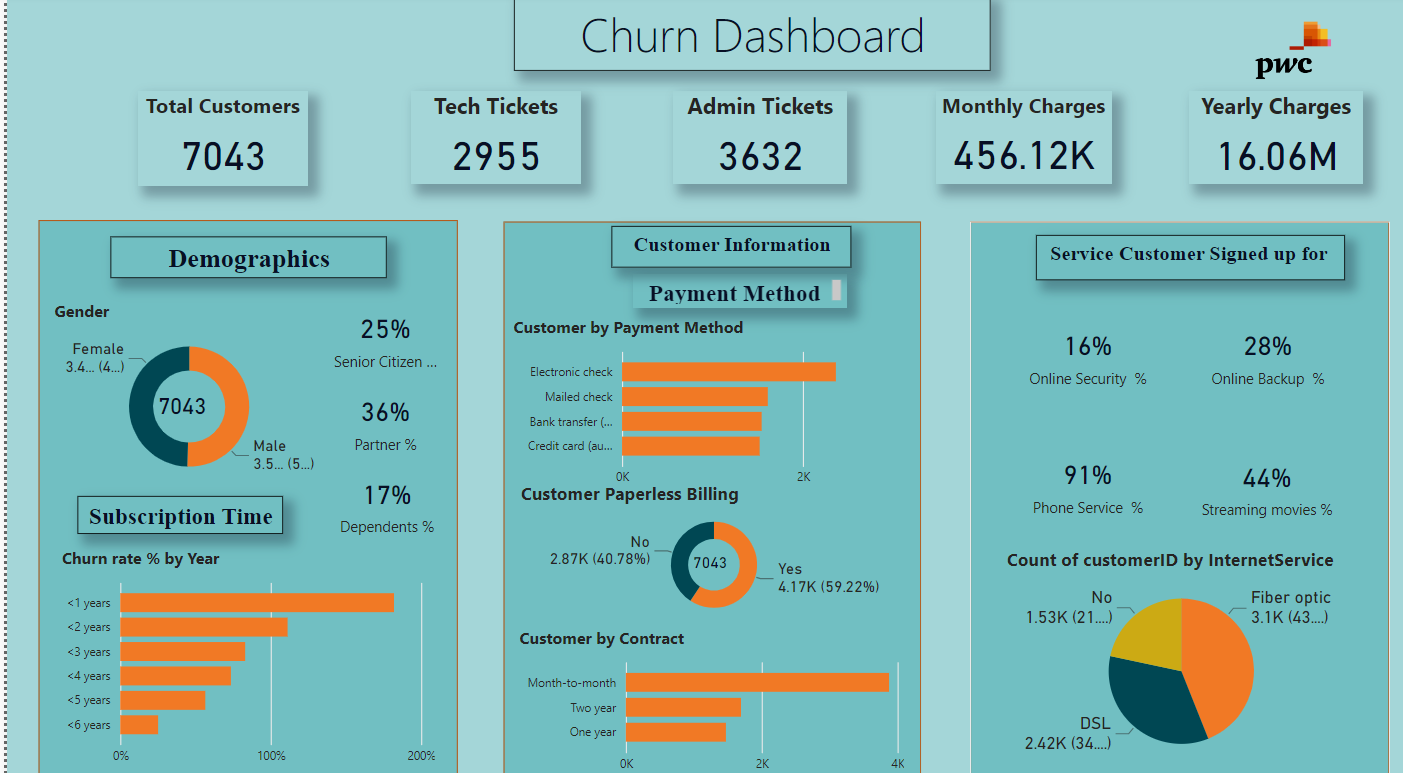

What the dashboard file says about the page in this screenshot:
{"tool":"powerbi","page":{"name":"Churn","canvas":[1280,720],"ordinal":1},"visuals":[{"type":"textbox","box":[464.2,0,435.8,69.5],"z":0},{"type":"shape","box":[28.4,205.3,383.7,514.7],"z":1000},{"type":"shape","box":[454.7,206.8,382.1,513.2],"z":2000},{"type":"shape","box":[881.1,206.8,383.7,513.2],"z":3000},{"type":"textbox","box":[94.7,221.1,252.6,37.9],"z":4000},{"type":"textbox","box":[552.6,211.6,219.5,37.9],"z":5000},{"type":"textbox","box":[941.1,219.5,282.6,41.1],"z":6000},{"type":"card","title":"Total Customers","fields":{"Values":["CountNonNull(Customer_Churn_Dataset.customerID)"]},"box":[120,88.4,156.3,86.8],"z":7000},{"type":"card","title":"Tech Tickets","fields":{"Values":["Customer_Churn_Dataset.Total Tech Tickets"]},"box":[369.5,88.4,156.3,85.3],"z":8000},{"type":"card","title":"Admin Tickets","fields":{"Values":["Sum(Customer_Churn_Dataset.numAdminTickets)"]},"box":[609.5,88.4,159.5,85.3],"z":9000},{"type":"card","title":"Monthly Charges","fields":{"Values":["Sum(Customer_Churn_Dataset.MonthlyCharges)"]},"box":[849.5,88.4,161.1,85.3],"z":10000},{"type":"card","title":"Yearly Charges","fields":{"Values":["Sum(Customer_Churn_Dataset.TotalCharges)"]},"box":[1081.6,88.4,159.5,85.3],"z":11000},{"type":"donutChart","title":"Gender","fields":{"Category":["Customer_Churn_Dataset.gender"],"Y":["CountNonNull(Customer_Churn_Dataset.gender)"]},"box":[37.9,277.9,255.8,175.3],"z":12000},{"type":"clusteredBarChart","title":" Churn rate % by Year","fields":{"Y":["Customer_Churn_Dataset.Churn rate %"],"Category":["Customer_Churn_Dataset.Substitute"]},"box":[45.8,504.9,351.3,207.4],"z":13000},{"type":"card","fields":{"Values":["Customer_Churn_Dataset.Senior Citizen %"]},"box":[294.1,279.3,104.5,69.7],"z":14000},{"type":"card","fields":{"Values":["Customer_Churn_Dataset.Partner %"]},"box":[294.1,355,104.5,68.1],"z":15000},{"type":"card","fields":{"Values":["Customer_Churn_Dataset.Dependents %"]},"box":[295.6,430.7,104.5,68.1],"z":16000},{"type":"textbox","box":[64.7,457.9,187.9,34.7],"z":17000},{"type":"donutChart","title":"Customer Paperless Billing","fields":{"Category":["Customer_Churn_Dataset.PaperlessBilling"],"Y":["CountNonNull(Customer_Churn_Dataset.customerID)"]},"box":[465,445,362.5,131.2],"z":18000},{"type":"clusteredBarChart","title":"Customer by Payment Method","fields":{"Category":["Customer_Churn_Dataset.PaymentMethod"],"Y":["CountNonNull(Customer_Churn_Dataset.customerID)"]},"box":[457.9,293.7,363.2,164.2],"z":19000},{"type":"clusteredBarChart","title":"Customer by Contract","fields":{"Category":["Customer_Churn_Dataset.Contract"],"Y":["CountNonNull(Customer_Churn_Dataset.customerID)"]},"box":[464.2,577.9,361.6,142.1],"z":20000},{"type":"textbox","box":[571.6,255.8,195.8,31.6],"z":21000},{"type":"card","fields":{"Values":["Customer_Churn_Dataset.Online Security  %"]},"box":[917.6,281,140.8,95.4],"z":22000},{"type":"card","fields":{"Values":["Customer_Churn_Dataset.Online Backup  %"]},"box":[1082.7,281,140.8,95.4],"z":23000},{"type":"card","fields":{"Values":["Customer_Churn_Dataset.Phone Service  %"]},"box":[917.6,399.1,140.8,95.4],"z":24000},{"type":"card","fields":{"Values":["Customer_Churn_Dataset.Multipleline Service  %"]},"box":[1081.6,399.1,142.1,99.5],"z":25000},{"type":"pieChart","fields":{"Category":["Customer_Churn_Dataset.InternetService"],"Y":["CountNonNull(Customer_Churn_Dataset.customerID)"]},"box":[909.5,505.3,328.4,205.3],"z":27000},{"type":"card","fields":{"Values":["CountNonNull(Customer_Churn_Dataset.gender)"]},"box":[131.1,361.6,59,30],"z":28000},{"type":"card","fields":{"Values":["CountNonNull(Customer_Churn_Dataset.gender)"]},"box":[622.1,505.3,42.6,23.7],"z":29000},{"type":"image","box":[1073.7,0,206.8,101.1],"z":30000}]}

Visuals, with their boxes in screenshot pixels (x1, y1, x2, y2), scaled from the page's 1280x720 canvas onto the 1403x773 screenshot:
textbox: {"x1": 509, "y1": 0, "x2": 986, "y2": 75}
shape: {"x1": 31, "y1": 220, "x2": 452, "y2": 772}
shape: {"x1": 498, "y1": 222, "x2": 917, "y2": 772}
shape: {"x1": 966, "y1": 222, "x2": 1386, "y2": 772}
textbox: {"x1": 104, "y1": 237, "x2": 381, "y2": 278}
textbox: {"x1": 606, "y1": 227, "x2": 846, "y2": 268}
textbox: {"x1": 1032, "y1": 236, "x2": 1341, "y2": 280}
"Total Customers" card: {"x1": 132, "y1": 95, "x2": 303, "y2": 188}
"Tech Tickets" card: {"x1": 405, "y1": 95, "x2": 576, "y2": 186}
"Admin Tickets" card: {"x1": 668, "y1": 95, "x2": 843, "y2": 186}
"Monthly Charges" card: {"x1": 931, "y1": 95, "x2": 1108, "y2": 186}
"Yearly Charges" card: {"x1": 1186, "y1": 95, "x2": 1360, "y2": 186}
"Gender" donutChart: {"x1": 42, "y1": 298, "x2": 322, "y2": 487}
" Churn rate % by Year" clusteredBarChart: {"x1": 50, "y1": 542, "x2": 435, "y2": 765}
card - Customer_Churn_Dataset.Senior Citizen %: {"x1": 322, "y1": 300, "x2": 437, "y2": 375}
card - Customer_Churn_Dataset.Partner %: {"x1": 322, "y1": 381, "x2": 437, "y2": 454}
card - Customer_Churn_Dataset.Dependents %: {"x1": 324, "y1": 462, "x2": 439, "y2": 536}
textbox: {"x1": 71, "y1": 492, "x2": 277, "y2": 529}
"Customer Paperless Billing" donutChart: {"x1": 510, "y1": 478, "x2": 907, "y2": 619}
"Customer by Payment Method" clusteredBarChart: {"x1": 502, "y1": 315, "x2": 900, "y2": 492}
"Customer by Contract" clusteredBarChart: {"x1": 509, "y1": 620, "x2": 905, "y2": 772}
textbox: {"x1": 627, "y1": 275, "x2": 841, "y2": 309}
card - Customer_Churn_Dataset.Online Security  %: {"x1": 1006, "y1": 302, "x2": 1160, "y2": 404}
card - Customer_Churn_Dataset.Online Backup  %: {"x1": 1187, "y1": 302, "x2": 1341, "y2": 404}
card - Customer_Churn_Dataset.Phone Service  %: {"x1": 1006, "y1": 428, "x2": 1160, "y2": 531}
card - Customer_Churn_Dataset.Multipleline Service  %: {"x1": 1186, "y1": 428, "x2": 1341, "y2": 535}
pieChart - Customer_Churn_Dataset.InternetService x CountNonNull(Customer_Churn_Dataset.customerID): {"x1": 997, "y1": 542, "x2": 1357, "y2": 763}
card - CountNonNull(Customer_Churn_Dataset.gender): {"x1": 144, "y1": 388, "x2": 208, "y2": 420}
card - CountNonNull(Customer_Churn_Dataset.gender): {"x1": 682, "y1": 542, "x2": 729, "y2": 568}
image: {"x1": 1177, "y1": 0, "x2": 1402, "y2": 109}
